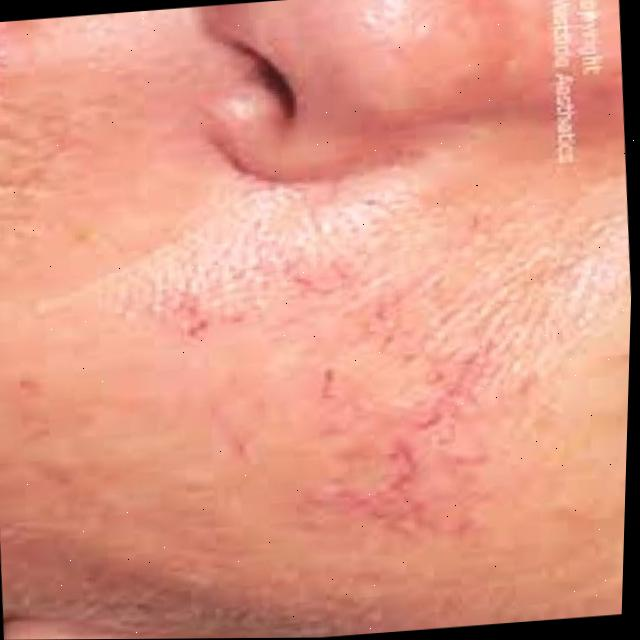Rosacea: (236, 228, 562, 533)
